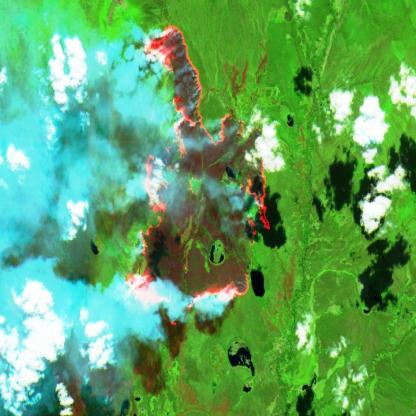fire: (122, 20, 275, 330)
